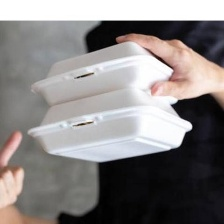foam_box: (25, 83, 196, 166), (28, 40, 184, 122)
